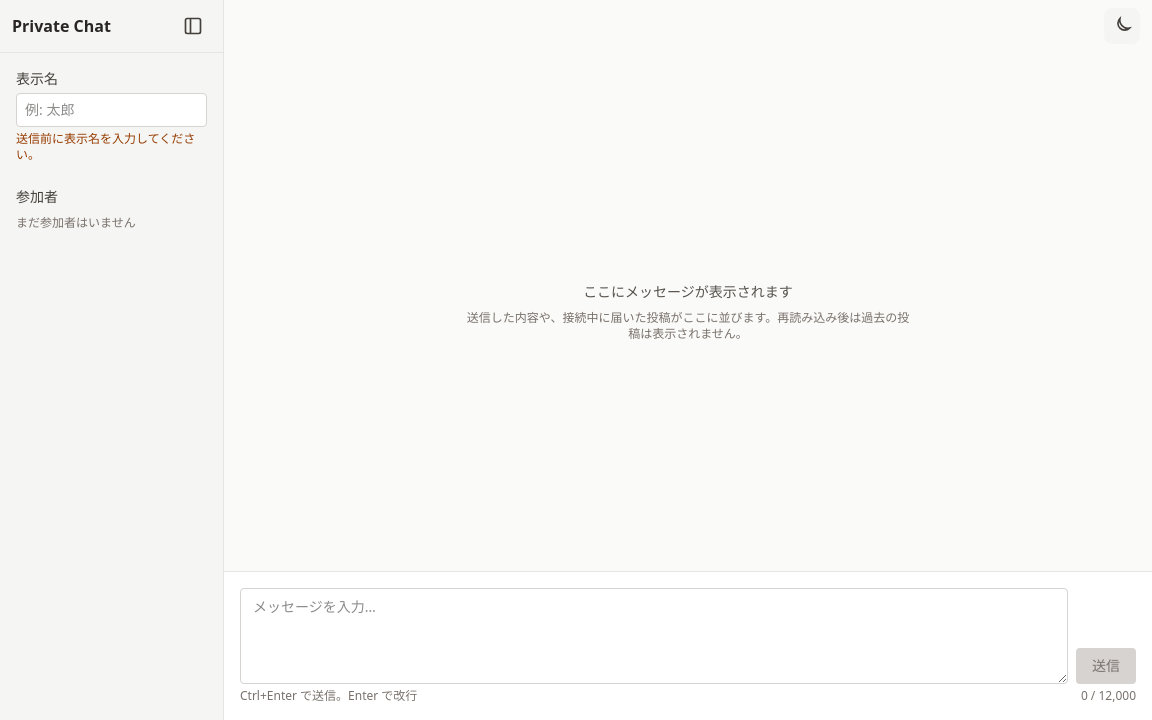
ChatApp (フェーズ3) › does not send when display name is empty and shows error
This screenshot has width=1152, height=720.
Type "hello" into the text box named "メッセージ入力". click: (654, 636)
box: [240,588,1068,684]
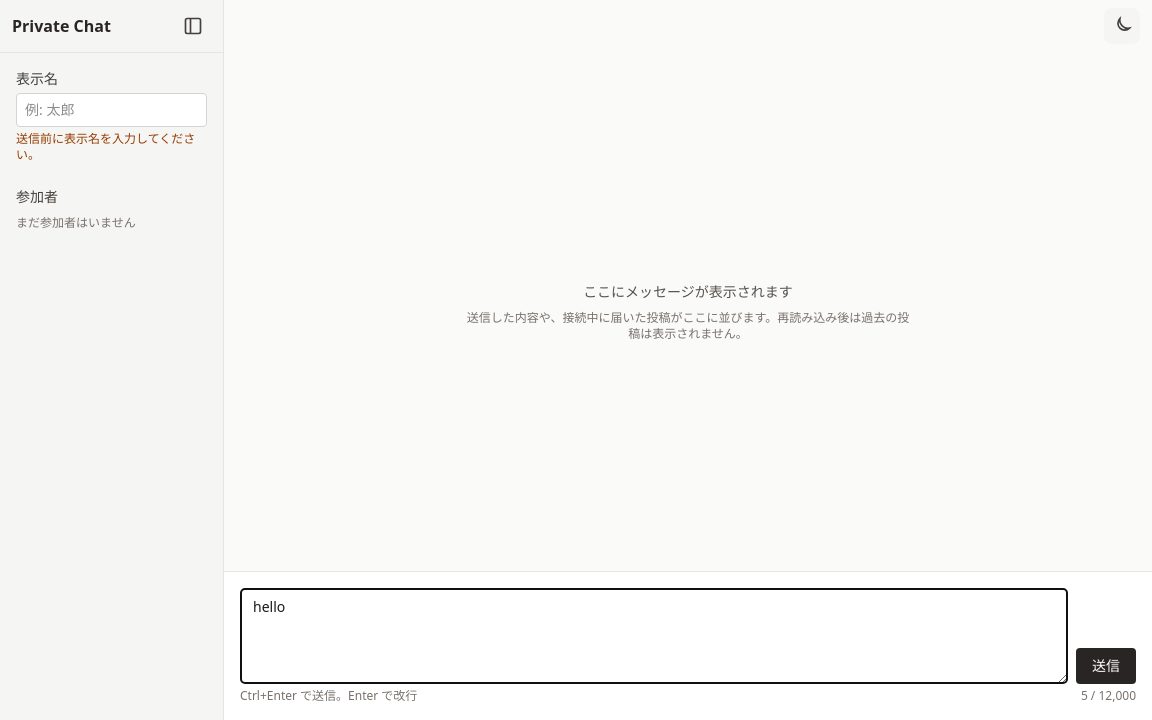
Click the button "送信". click: click(1106, 666)
box: [1076,648,1136,684]
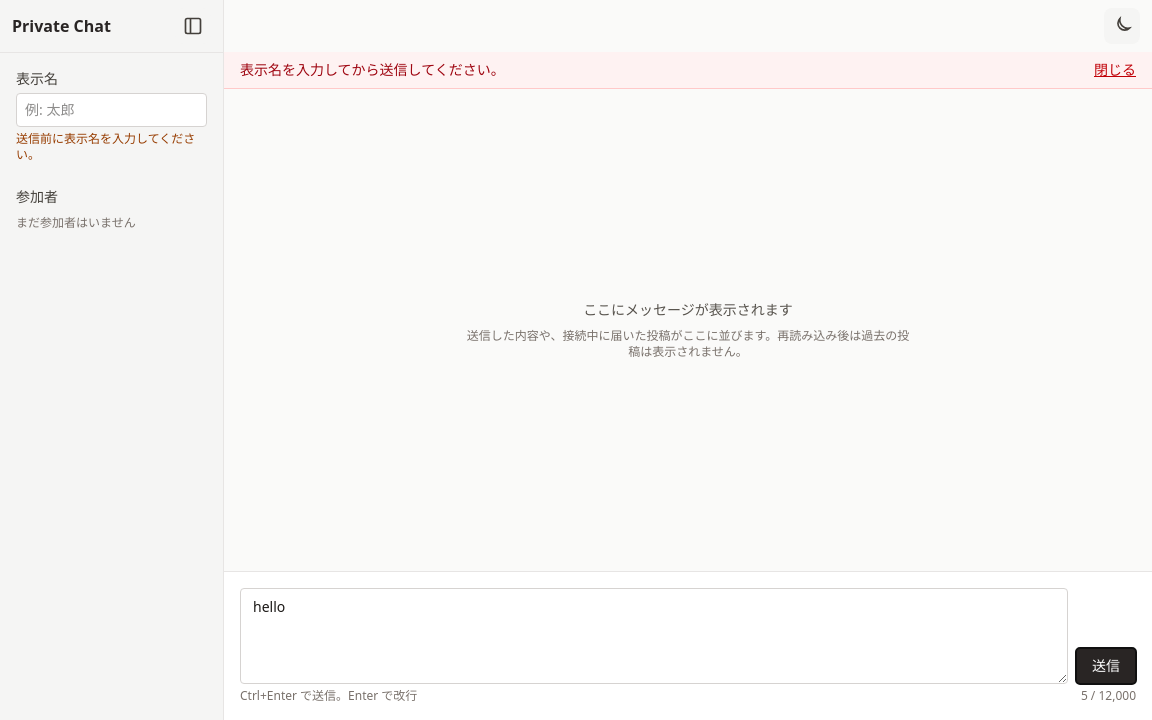
Check: the message shows "表示名を入力してから送信してください。", box [240,60,505,79]
